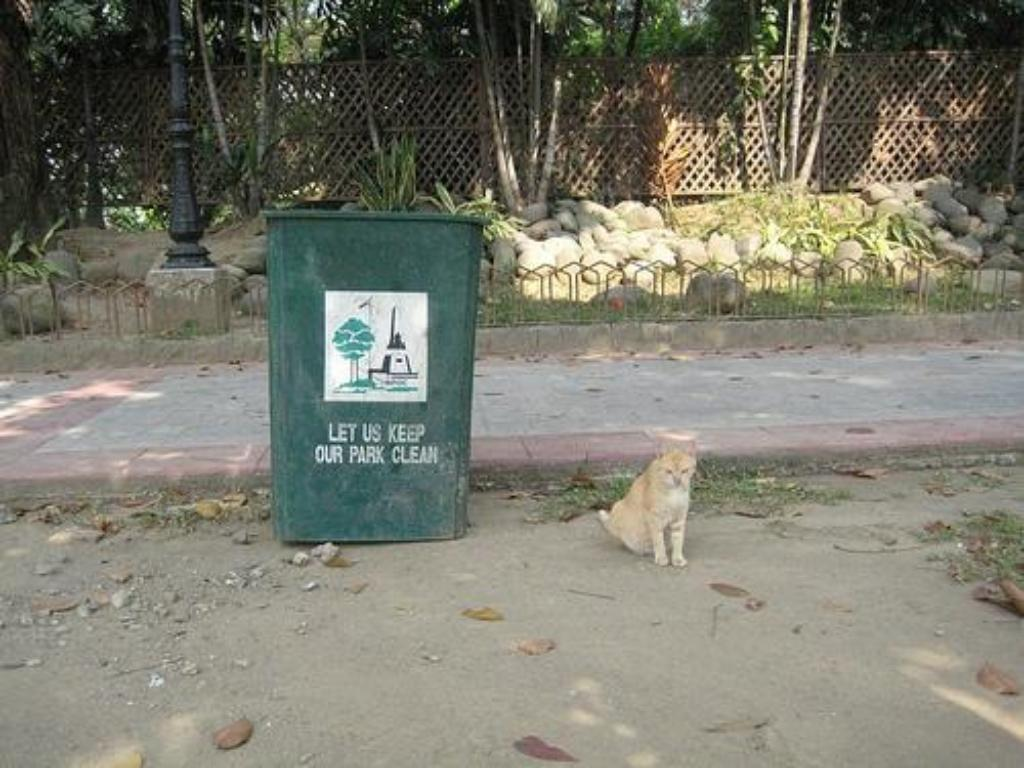dustbin: (254, 196, 510, 565)
